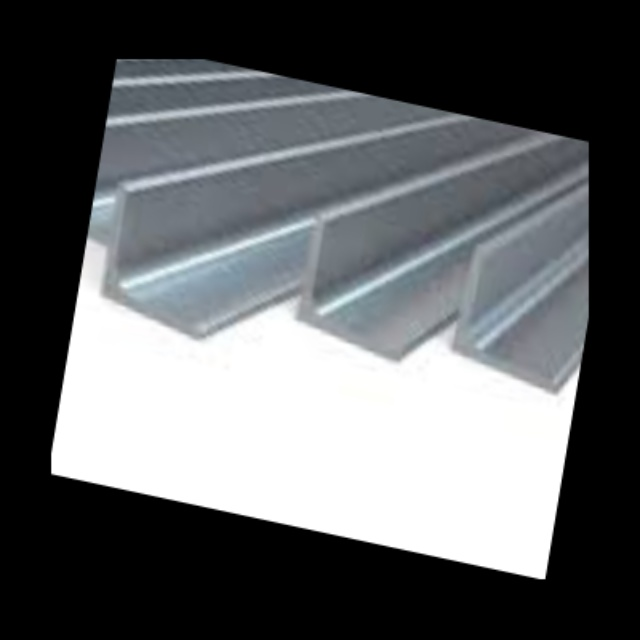Angle: (103, 198, 215, 337), (456, 253, 568, 389), (300, 227, 411, 359)
